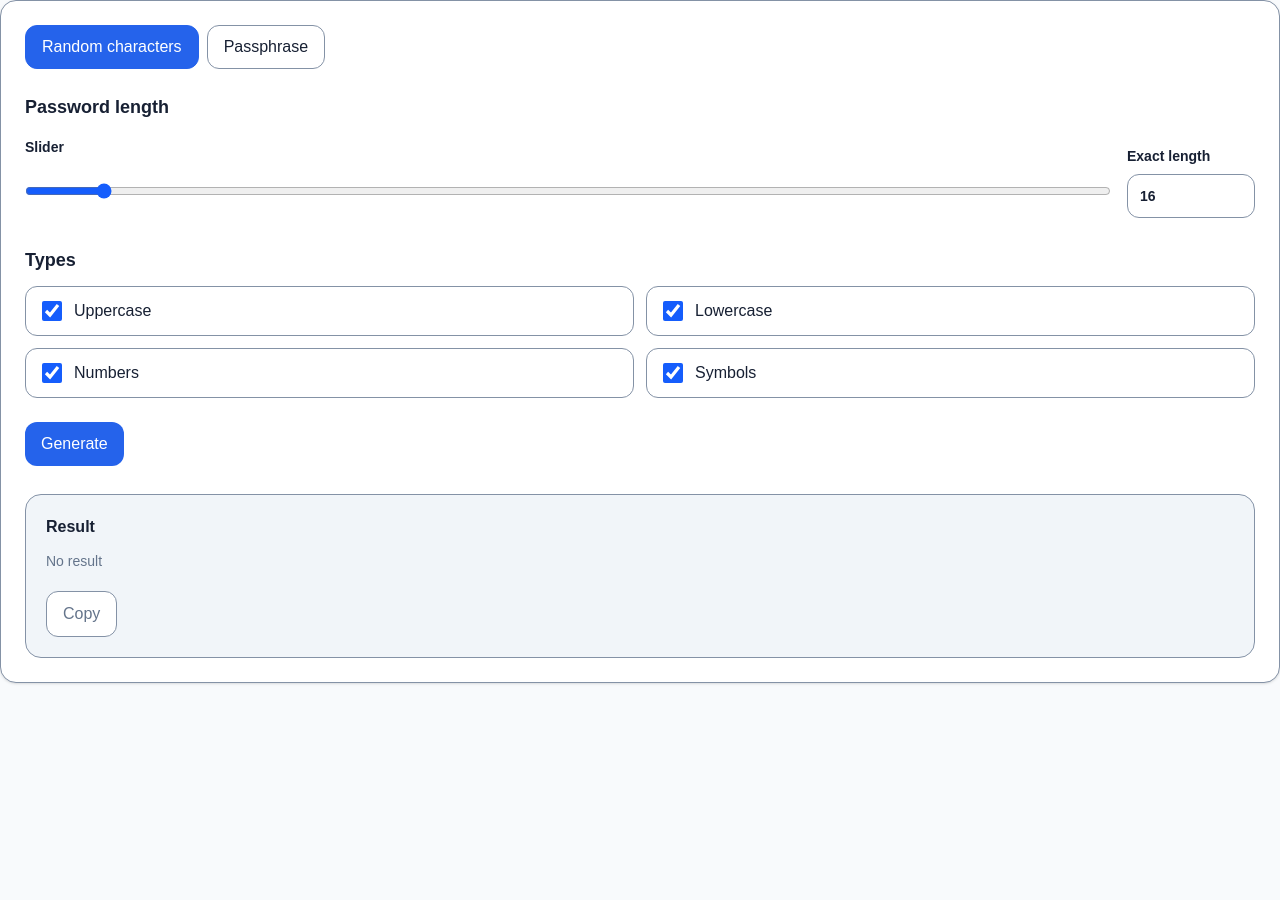
Test: PasswordGenerator › generates the selected length, shows strength, and clears stale output on setting change
Click the button "Generate": (74, 444) [25,422,124,466]
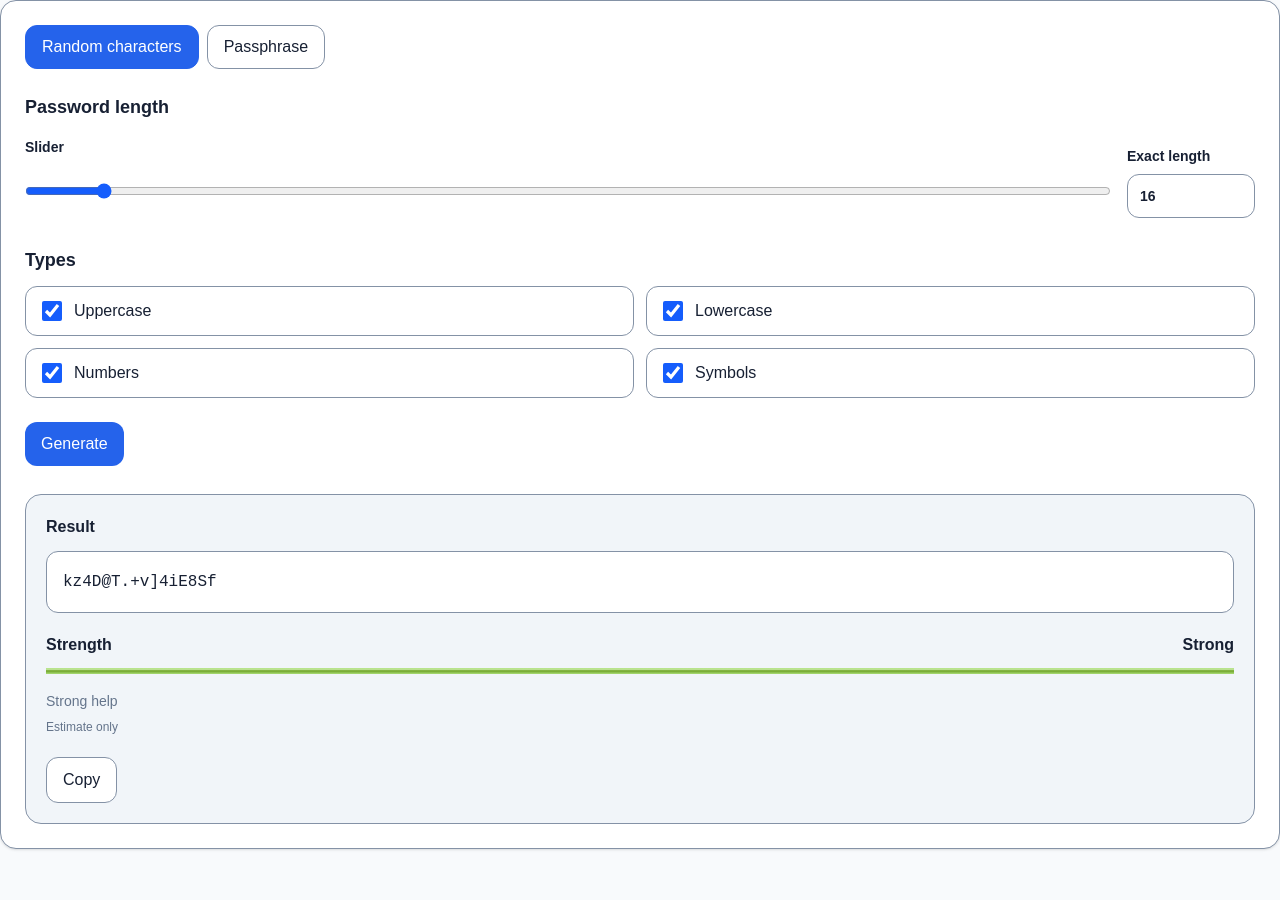
expect the text "Strong" is shown: met, box [1182,633,1234,657]
expect the element named "Strength: Strong" is shown: met, box [46,665,1234,677]
Click the checkbox labelled "Symbols": (673, 373) [663,363,683,383]
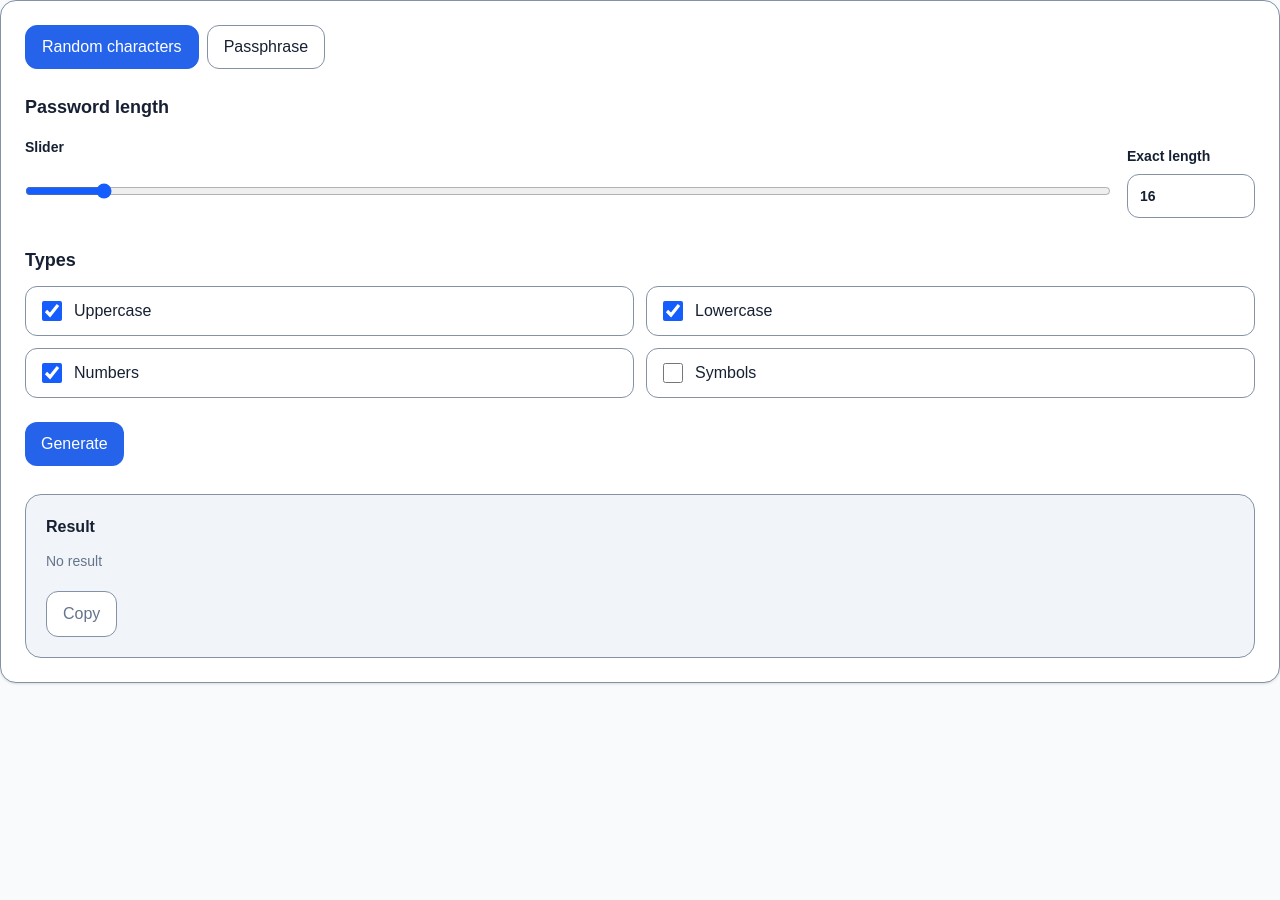
expect the button "Copy" is disabled: met, box [46,591,117,637]
